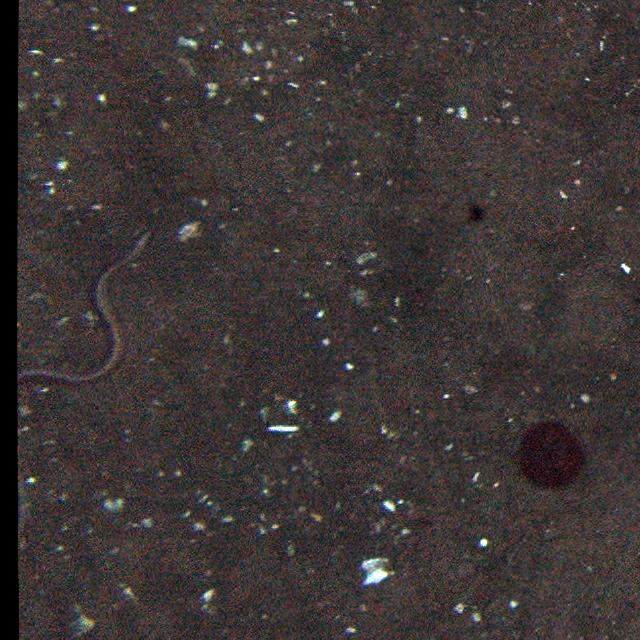eel: (24, 232, 152, 388)
